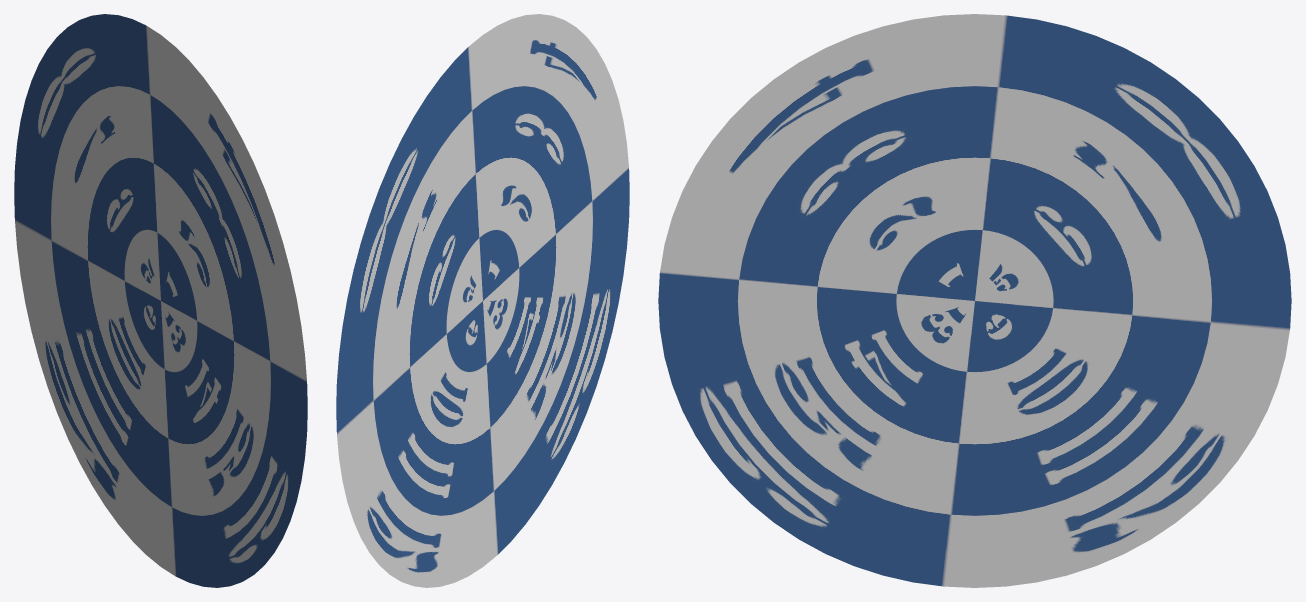
File: Ring24.fbx
3 renders of one model, left to right at view 1: azimuth 30°, elevation 25°; view 2: azimuth 150°, elevation 25°; view 3: azimuth 270°, elevation 25°, orthographic. The views are drawn at different scales.
Parts seen in each view (by area): view 1: SM_e_Useful_Ring002; view 2: SM_e_Useful_Ring002; view 3: SM_e_Useful_Ring002.
Part boxes in pixels (x1,y1,x2,y2): SM_e_Useful_Ring002: [14, 14, 307, 587]; SM_e_Useful_Ring002: [336, 14, 629, 587]; SM_e_Useful_Ring002: [658, 14, 1291, 587].
Size of the model in its own units: 0 by 97.46 by 97.46.
